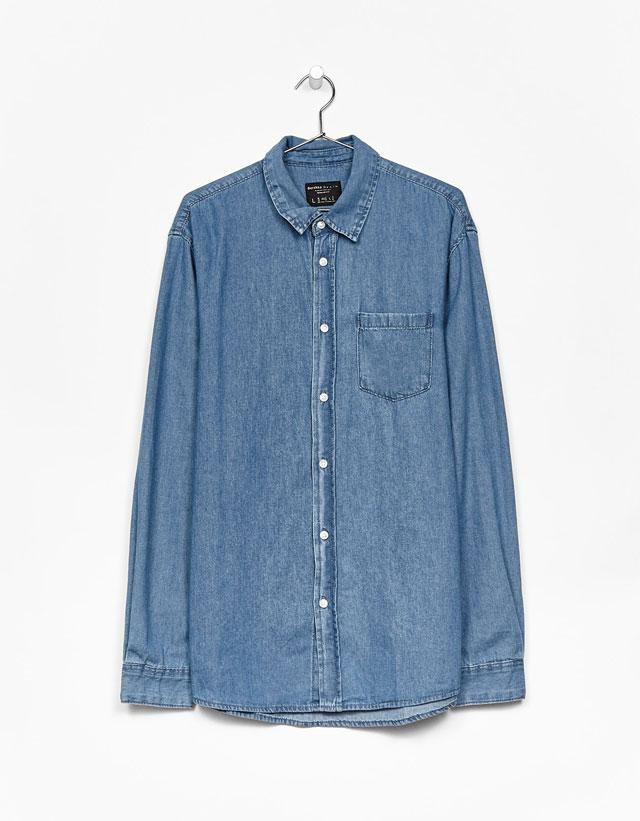teeshirt: (123, 134, 537, 740)
